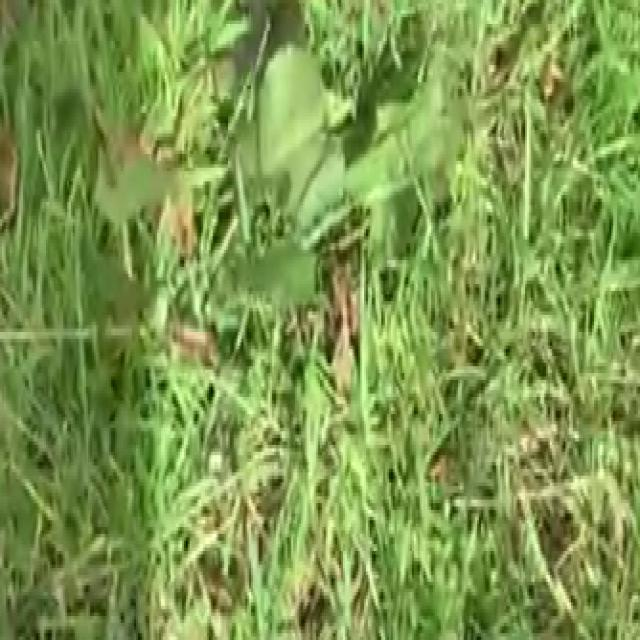organic waste: (190, 0, 481, 356)
